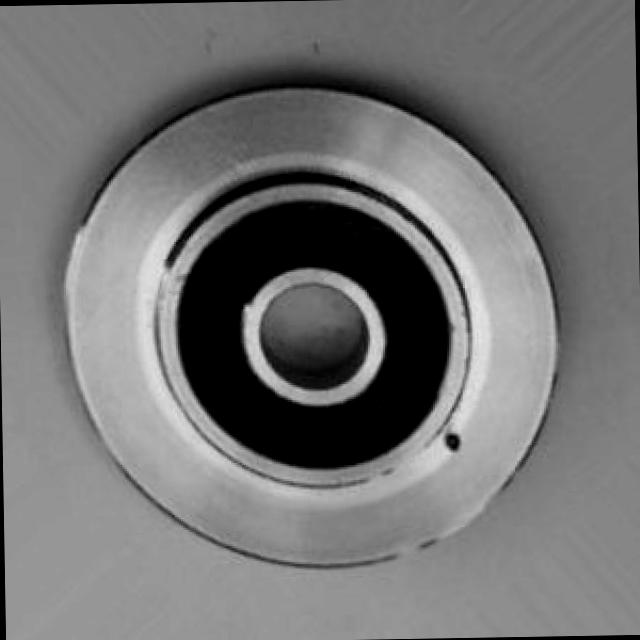Defect: (441, 428, 466, 458)
